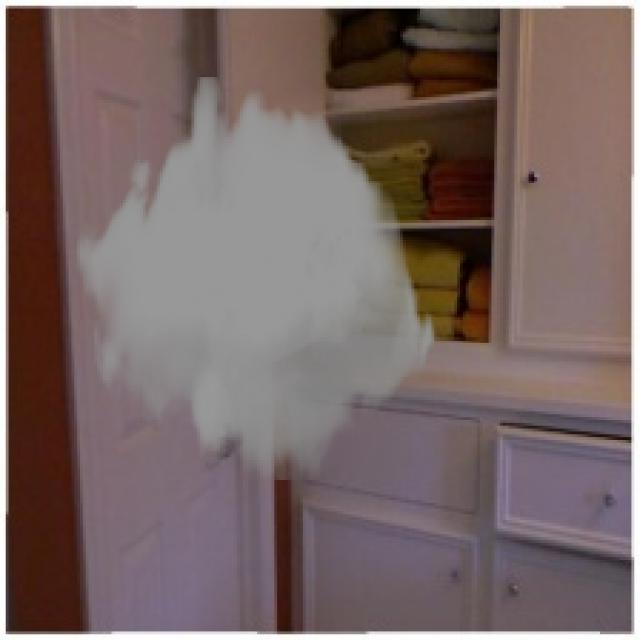smoke: (74, 77, 437, 480)
